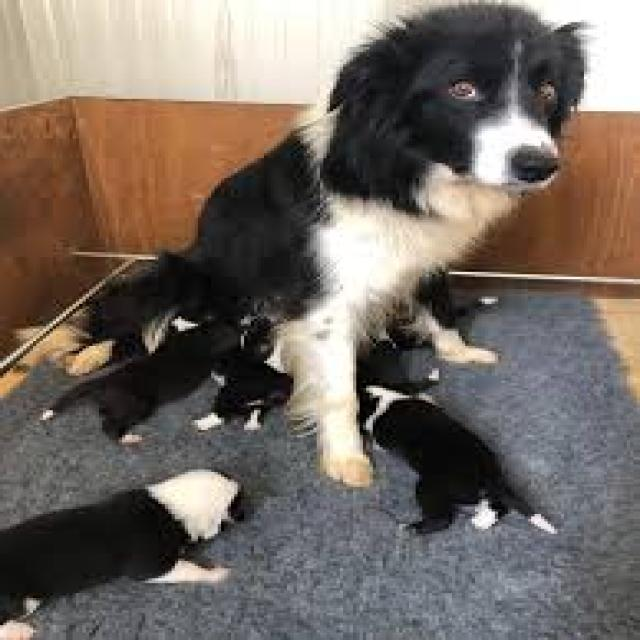BORDER_COLLIE: (60, 0, 600, 502)
